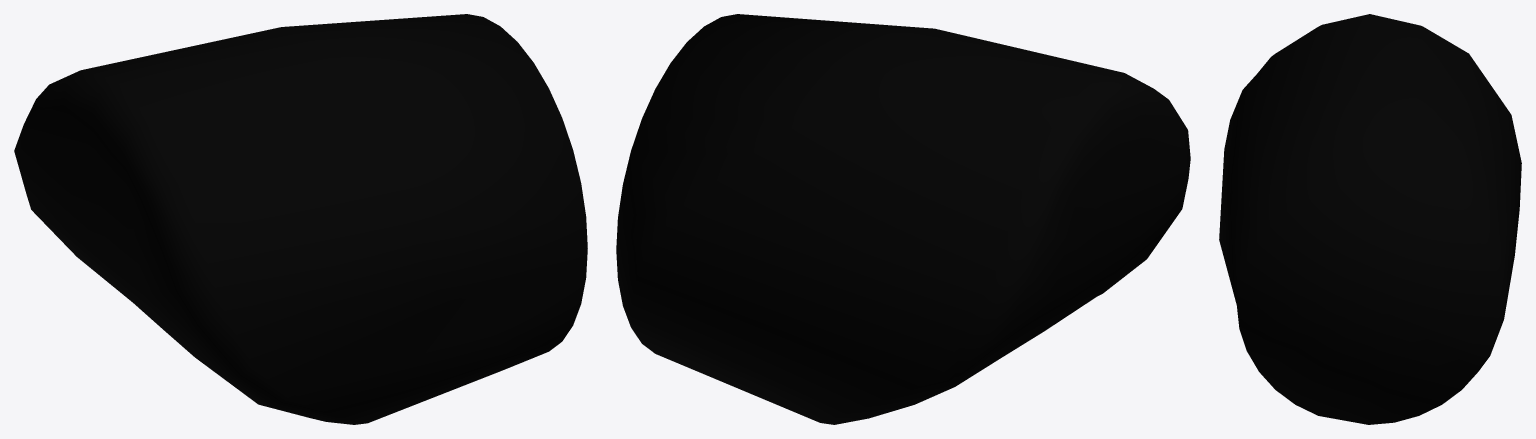
File: LElbowRoll.obj
The picture shows the model from 3 angles, left to right: view 1: azimuth 30°, elevation 25°; view 2: azimuth 150°, elevation 25°; view 3: azimuth 270°, elevation 25°; orthographic projection. The views are drawn at different scales.
Size of the model in its own units: 0.8133 by 0.718 by 0.6915.
